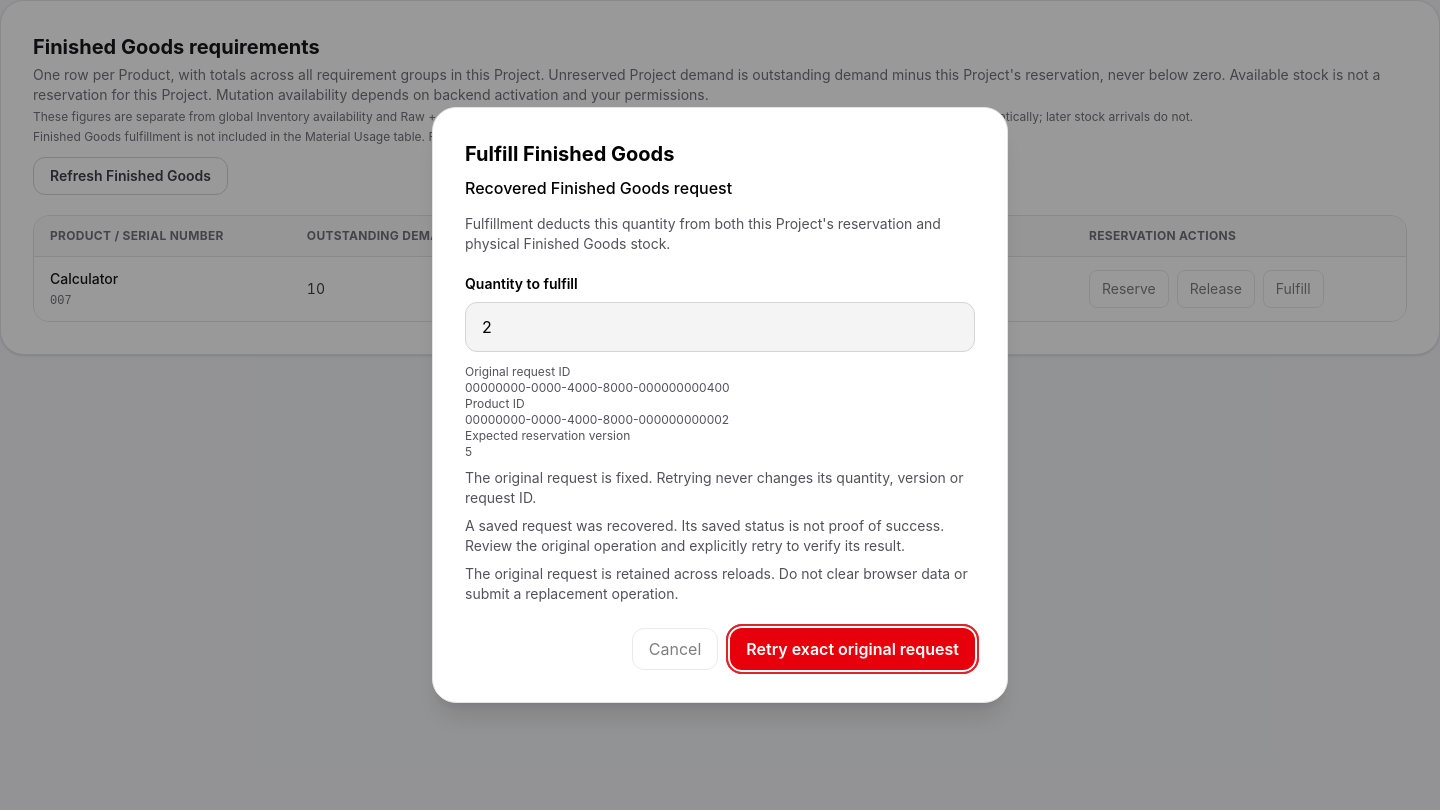
it: Project Finished Goods mutation UI › recovered success labels require explicit replay before any success confirmation
expect the text "A saved request was recovered" is shown: met, box [465, 517, 944, 554]
expect the text "Operation confirmed" is not shown: met
Click the button "Retry exact original request". click: (853, 649)
box: [730, 628, 975, 670]
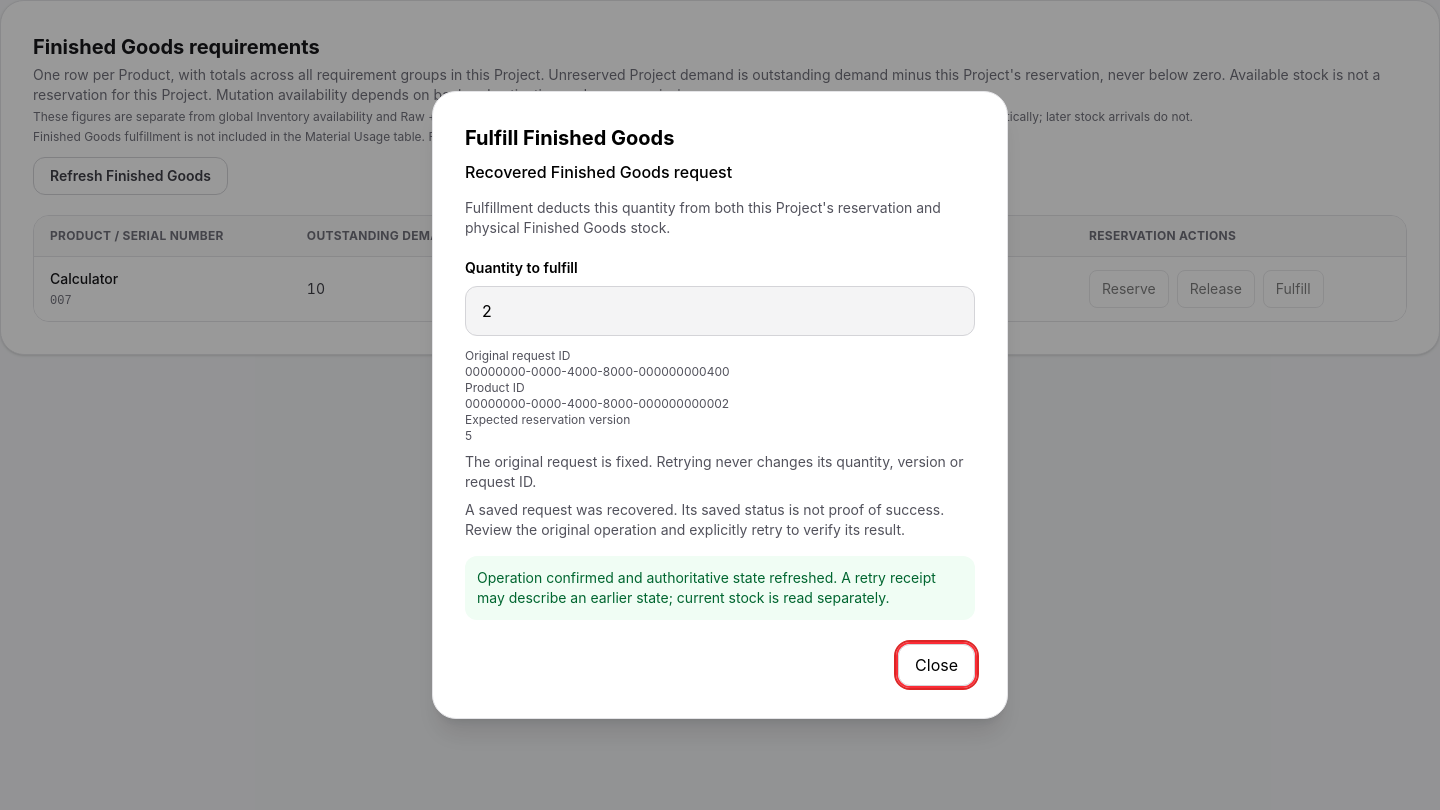
expect the text "Operation confirmed and authoritative state refreshed" is shown: met, box [477, 569, 936, 606]
